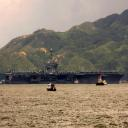Portanaves: (4, 45, 127, 87)
